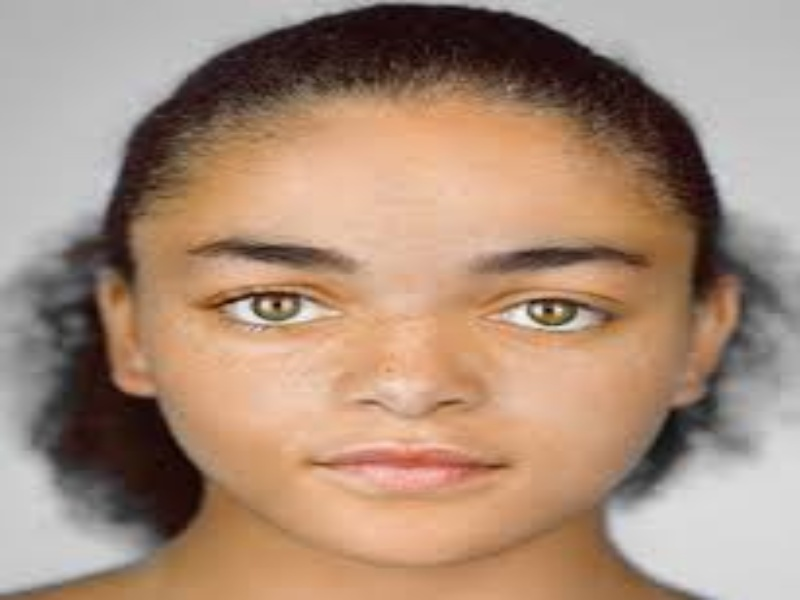face: (187, 144, 660, 519)
